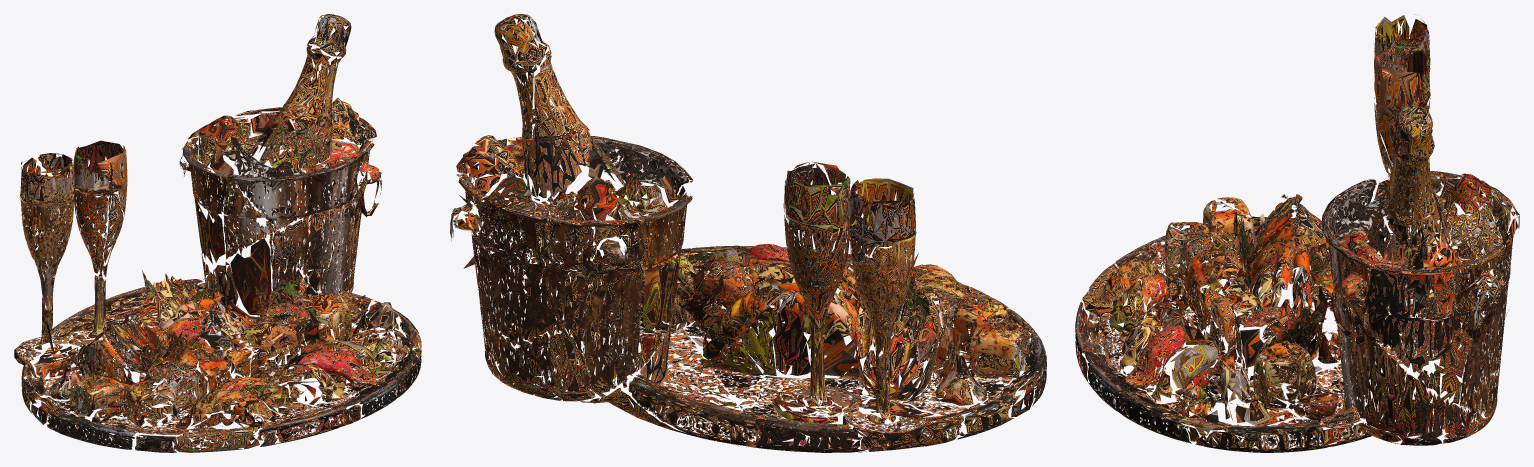
The model's file is menuAR-sushi-55x45x38cm-mobile.glb.
3 views of the same model, side by side, from view 1: azimuth 30°, elevation 25°; view 2: azimuth 150°, elevation 25°; view 3: azimuth 270°, elevation 25° (orthographic). The views are drawn at different scales.
Visible parts, largest first — view 1: Sushi; view 2: Sushi; view 3: Sushi.
Boxes of the visible parts, x1=… form: Sushi: x1=14, y1=14, x2=421, y2=452; Sushi: x1=450, y1=14, x2=1046, y2=452; Sushi: x1=1075, y1=14, x2=1519, y2=452.
Bounding box in the file's own units: 0.55 × 0.38 × 0.45.
1 material, 1 textured.
